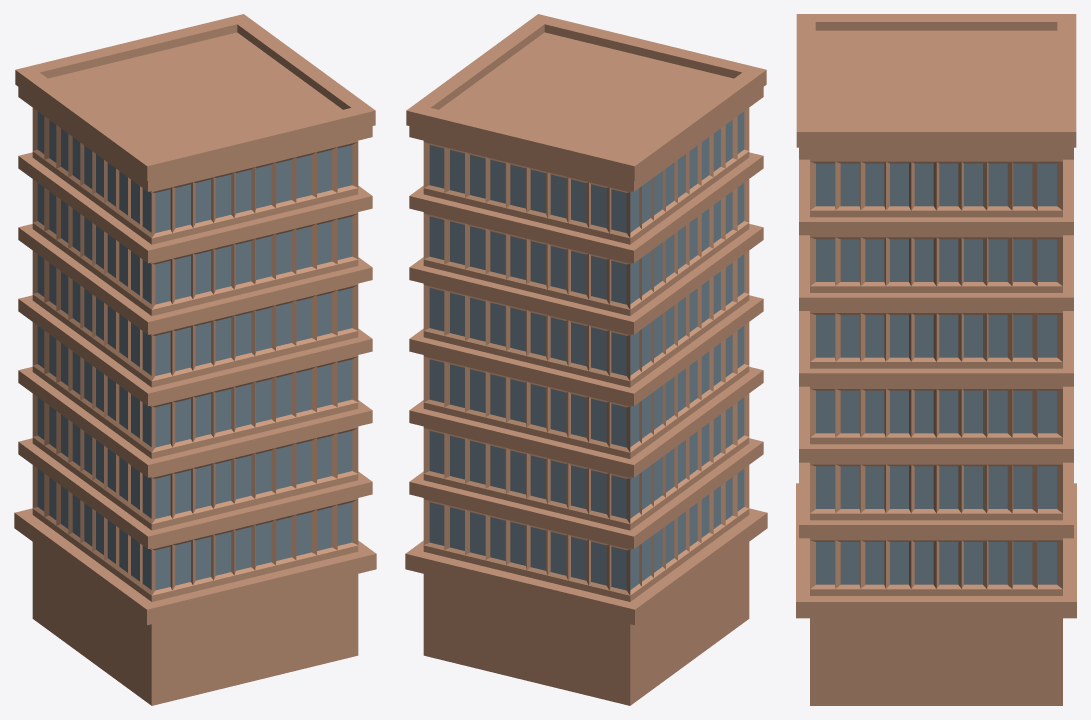
The model's file is flat 2.fbx.
The picture shows the model from 3 angles, left to right: view 1: azimuth 30°, elevation 25°; view 2: azimuth 150°, elevation 25°; view 3: azimuth 270°, elevation 25°; orthographic projection. The views are drawn at different scales.
Visible parts, largest first — view 1: Plane; view 2: Plane; view 3: Plane.
Part boxes in pixels (x1=…): Plane: x1=14, y1=14, x2=376, y2=705; Plane: x1=405, y1=14, x2=767, y2=705; Plane: x1=796, y1=14, x2=1076, y2=705.
Bounding box in the file's own units: 222 × 506 × 222.
